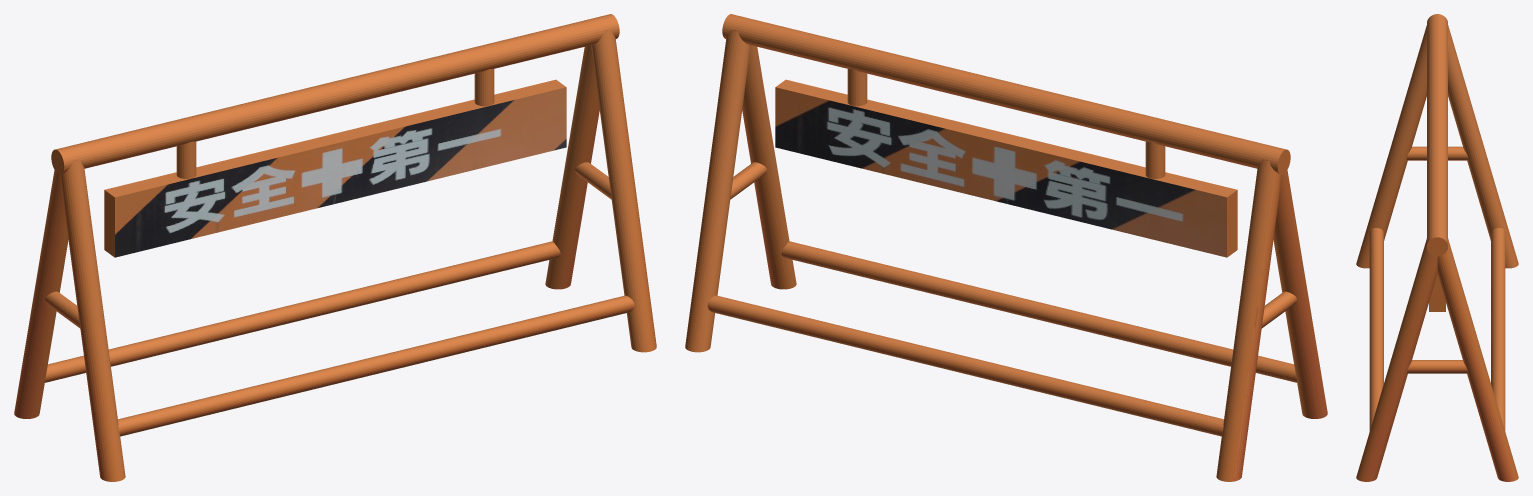
Rendered from kanban.fbx.
3 views of the same model, side by side, from view 1: azimuth 30°, elevation 25°; view 2: azimuth 150°, elevation 25°; view 3: azimuth 270°, elevation 25° (orthographic). The views are drawn at different scales.
Visible parts, largest first — view 1: kanban; view 2: kanban; view 3: kanban.
Part boxes in pixels (x1,y1,x2,y2): kanban: (14,14,656,481); kanban: (685,14,1327,481); kanban: (1356,14,1518,481).
Bounding box in the file's own units: 402 × 206 × 124.
